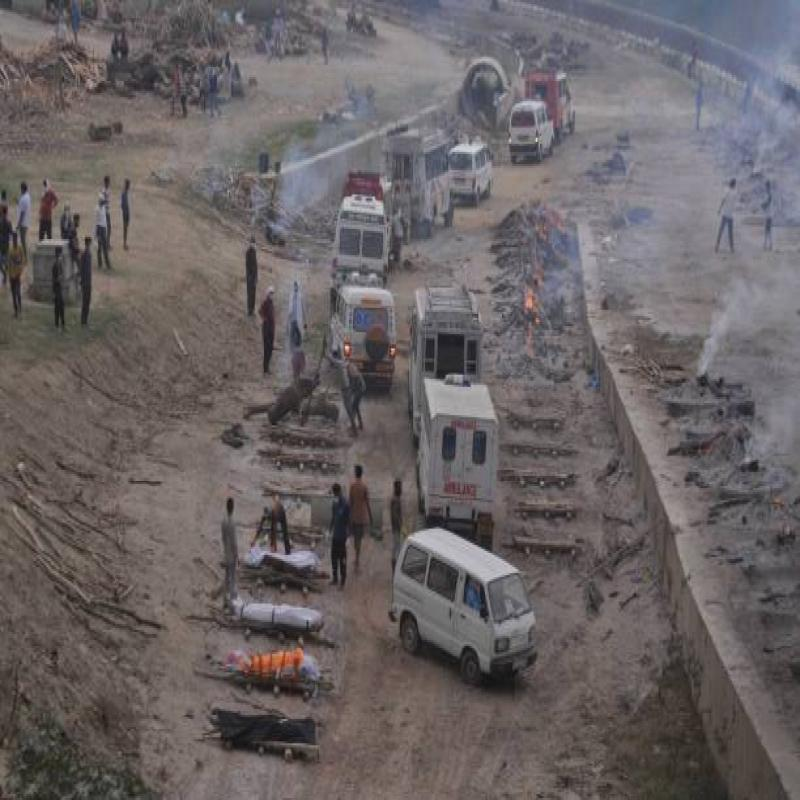ambulance: (416, 385, 498, 542)
